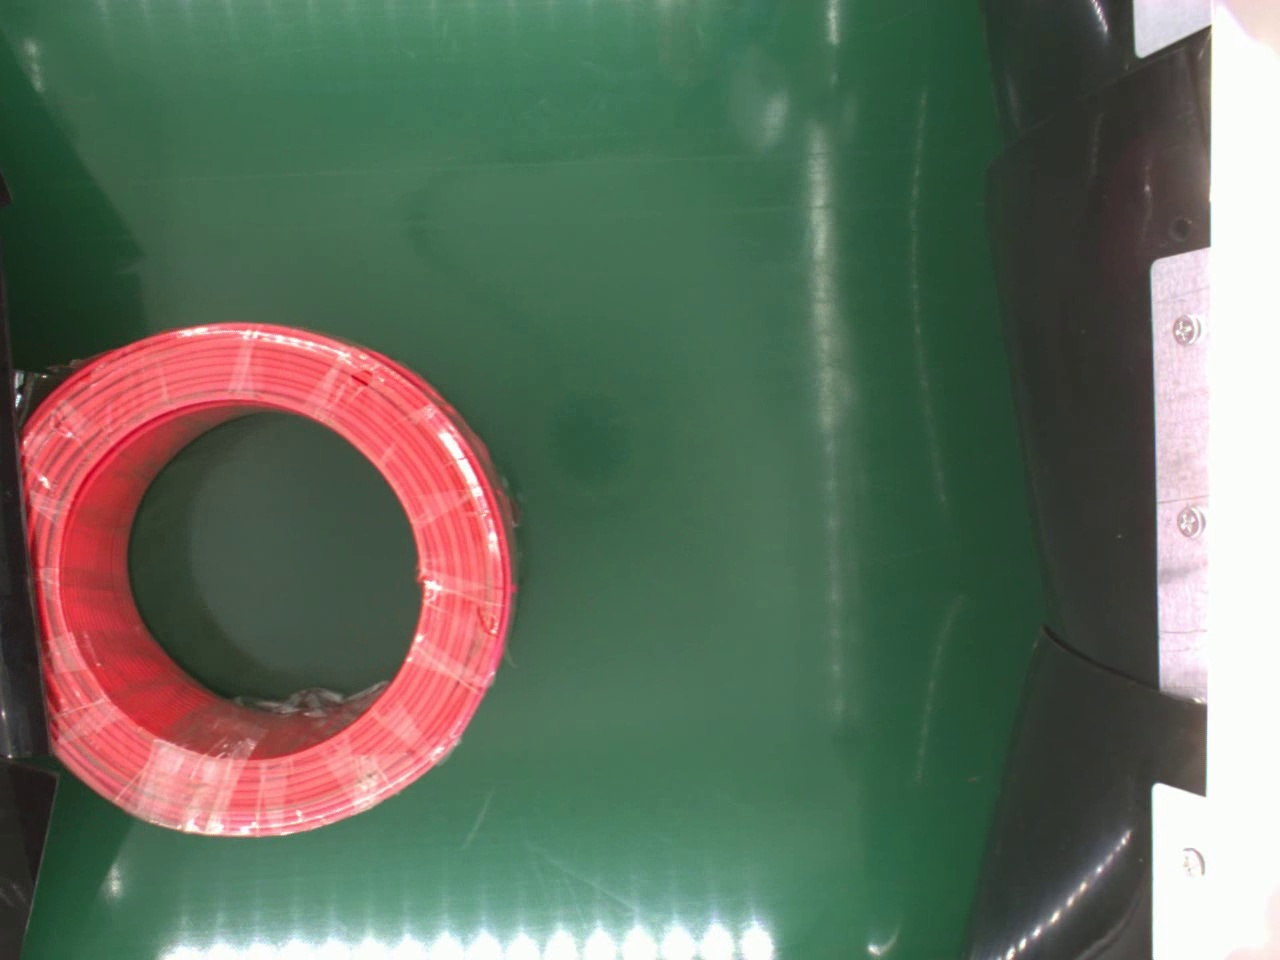red: (25, 322, 527, 841)
